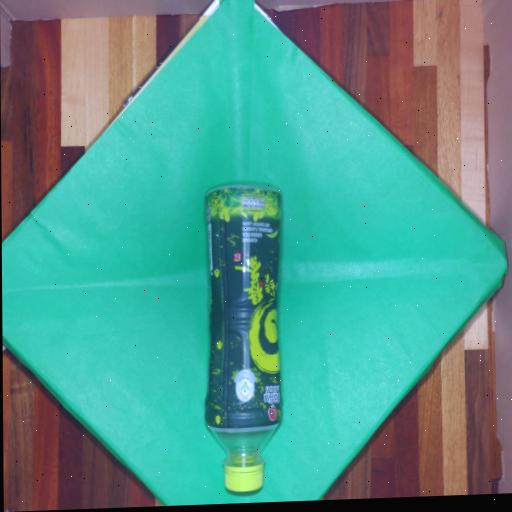bottle: (194, 170, 292, 505)
